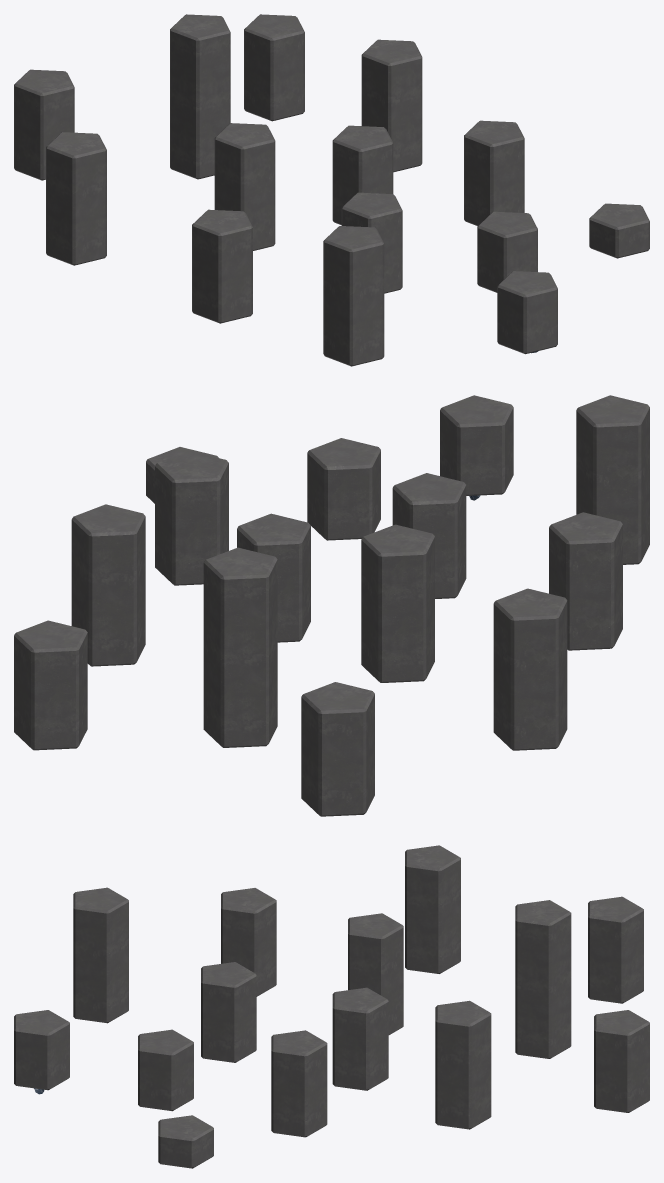
The picture shows the model from 3 angles, top to bottom: view 1: azimuth 30°, elevation 25°; view 2: azimuth 150°, elevation 25°; view 3: azimuth 270°, elevation 25°; orthographic projection. The views are drawn at different scales.
Visible parts, largest first — view 1: Columns; view 2: Columns; view 3: Columns.
Boxes of the visible parts, box(x1,y1,x2,y2) form: Columns: box(14, 14, 649, 366); Columns: box(14, 395, 649, 816); Columns: box(14, 845, 649, 1168).
Bounding box in the file's own units: 197 × 62.57 × 242.
Materials: 2 (2 with a texture image).
